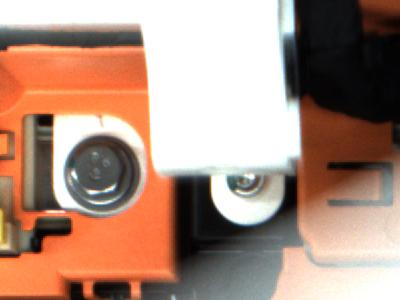nut_b: (60, 137, 138, 212)
